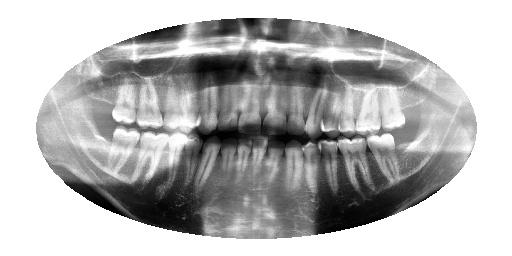Cavity: (220, 138, 239, 188)
